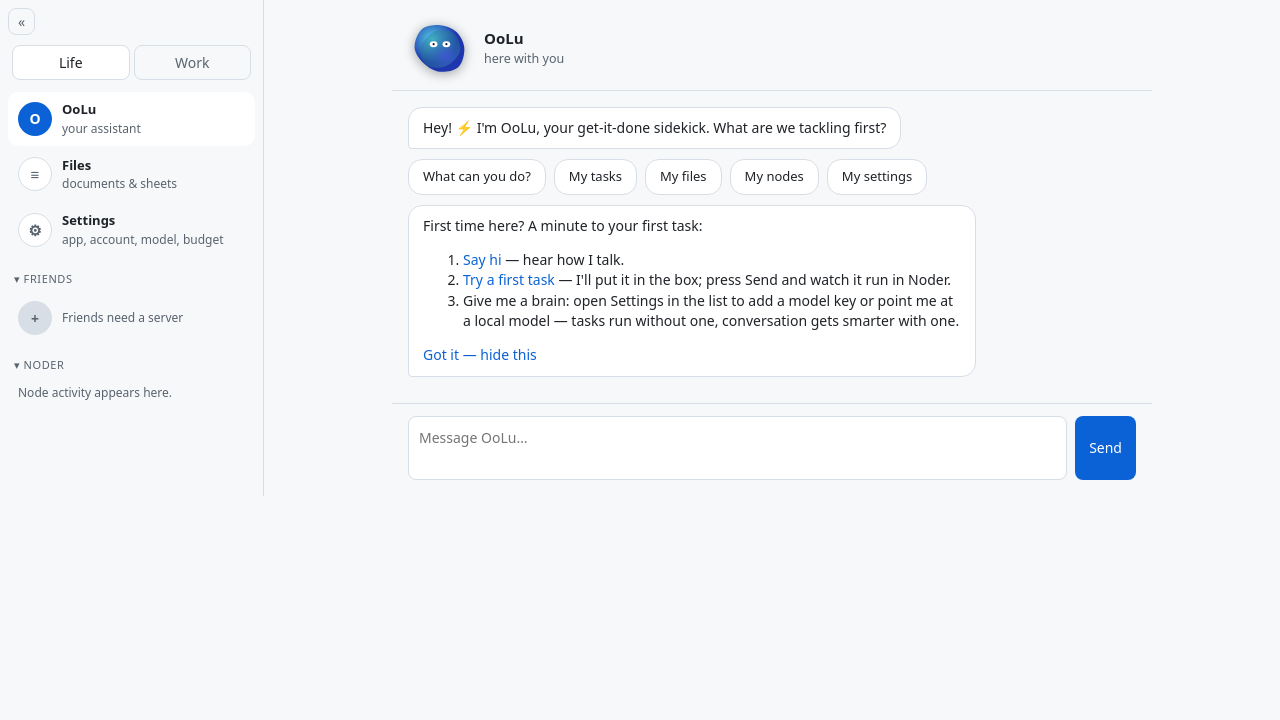
Scenario: the foldable list and the one-pane phone flow › opening a conversation opens the pane; back returns to the list
The width and height of the screenshot is (1280, 720).
Later steps or results of the test are not shown.
Click the button "≡ Files documents & sheets": (132, 174) [8, 148, 255, 201]
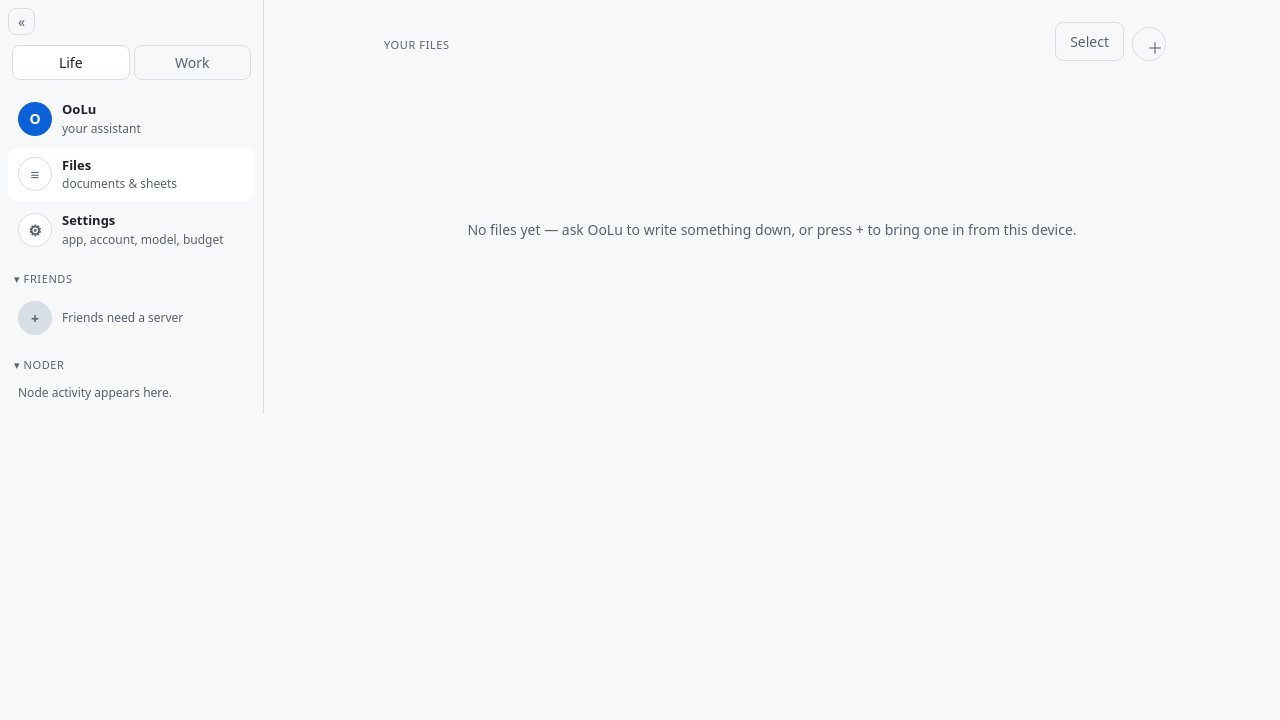
Expected: the element with class "life" has class "pane-open", [0, 0, 1279, 414]
